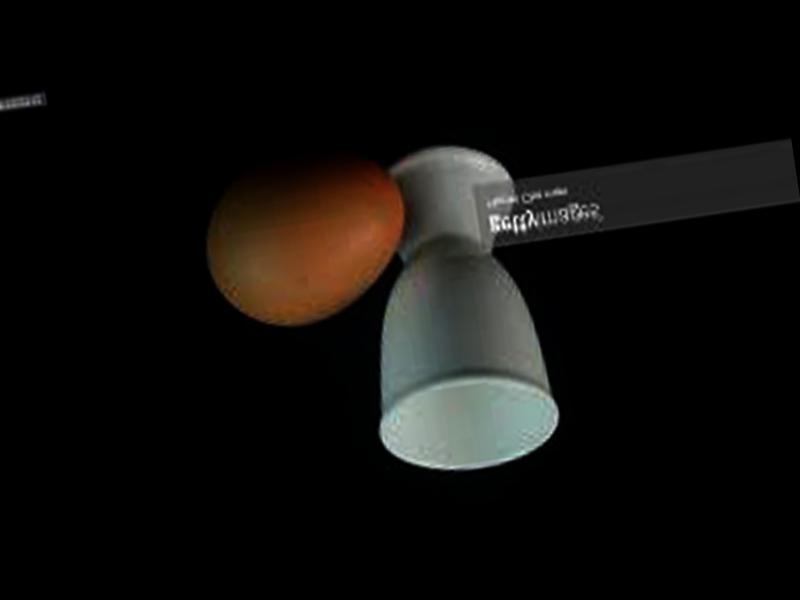Eggs: (196, 146, 421, 338)
